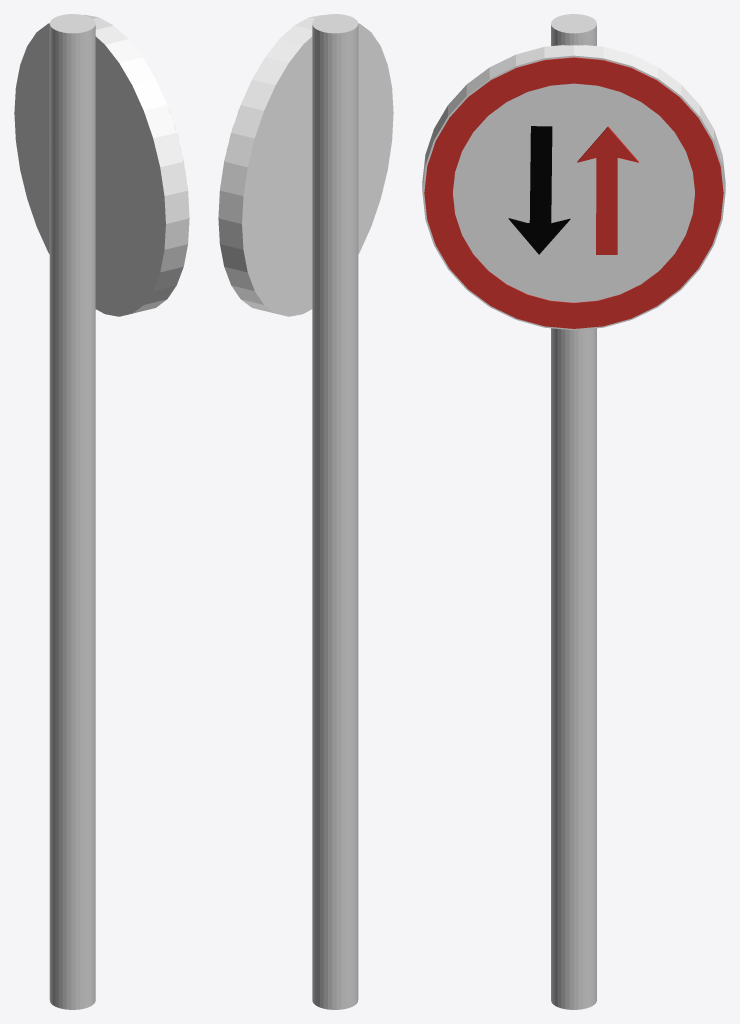
The model's file is SignGiveWayToOncomingTraffic.fbx.
3 renders of one model, left to right at view 1: azimuth 30°, elevation 25°; view 2: azimuth 150°, elevation 25°; view 3: azimuth 270°, elevation 25°, orthographic.
Parts seen in each view (by area): view 1: Cylinder.019, SignCircle.025; view 2: Cylinder.019, SignCircle.025; view 3: SignCircle.025, Cylinder.019, SignCircle.024, Cube.006, Cube.005.
Part boxes in pixels (x1,y1,x2,y2): Cylinder.019: [49, 14, 95, 1009]; SignCircle.025: [14, 15, 189, 316]; Cylinder.019: [312, 14, 358, 1009]; SignCircle.025: [218, 15, 393, 316]; SignCircle.025: [422, 45, 725, 330]; Cylinder.019: [551, 14, 596, 1009]; SignCircle.024: [424, 57, 723, 328]; Cube.006: [508, 126, 570, 254]; Cube.005: [577, 126, 638, 254].
Bounding box in the file's own units: 130 × 1671 × 470.
